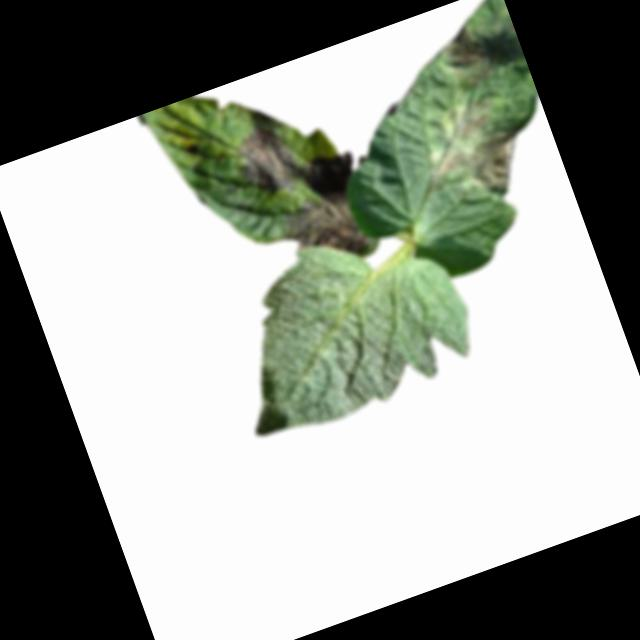Late_blight: (224, 98, 362, 220), (431, 128, 534, 213), (282, 185, 370, 270), (433, 18, 492, 84), (438, 95, 502, 153)
healthy: (201, 202, 488, 448)
